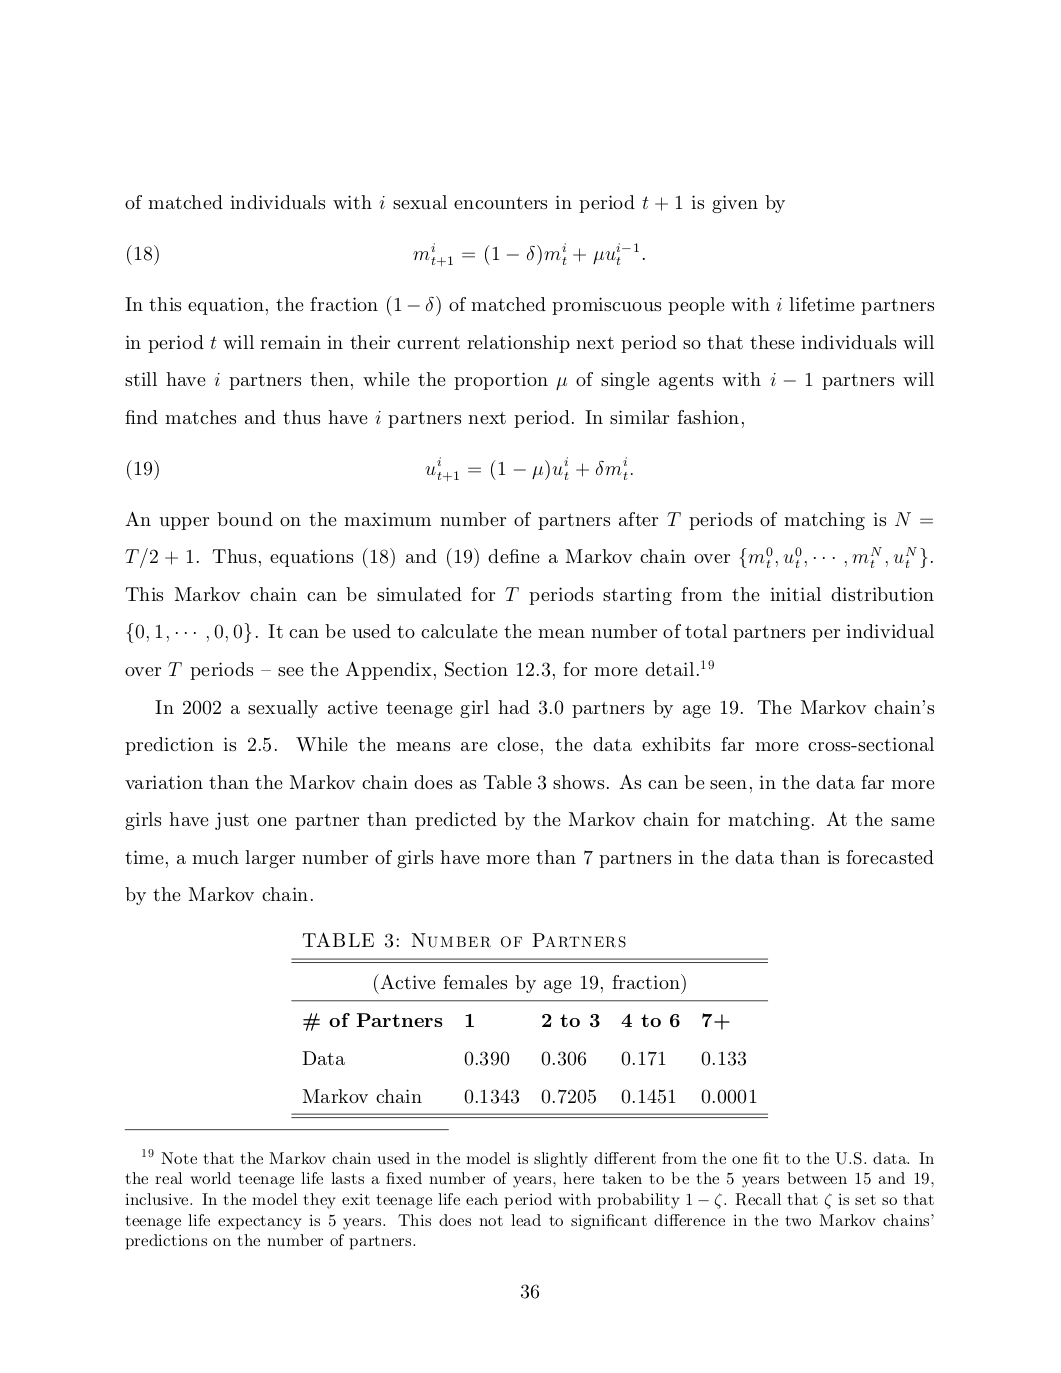Table: (291, 932, 767, 1118)
formula: (127, 456, 632, 483), (127, 242, 644, 267)
